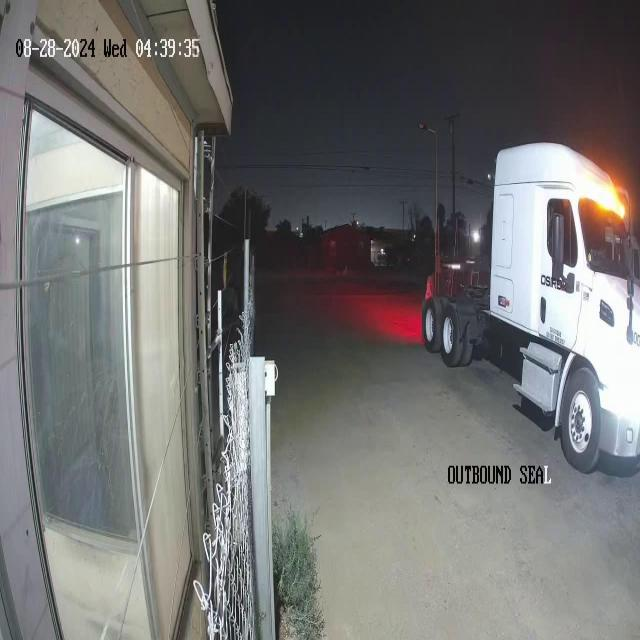BOBTAIL: (421, 140, 639, 476)
